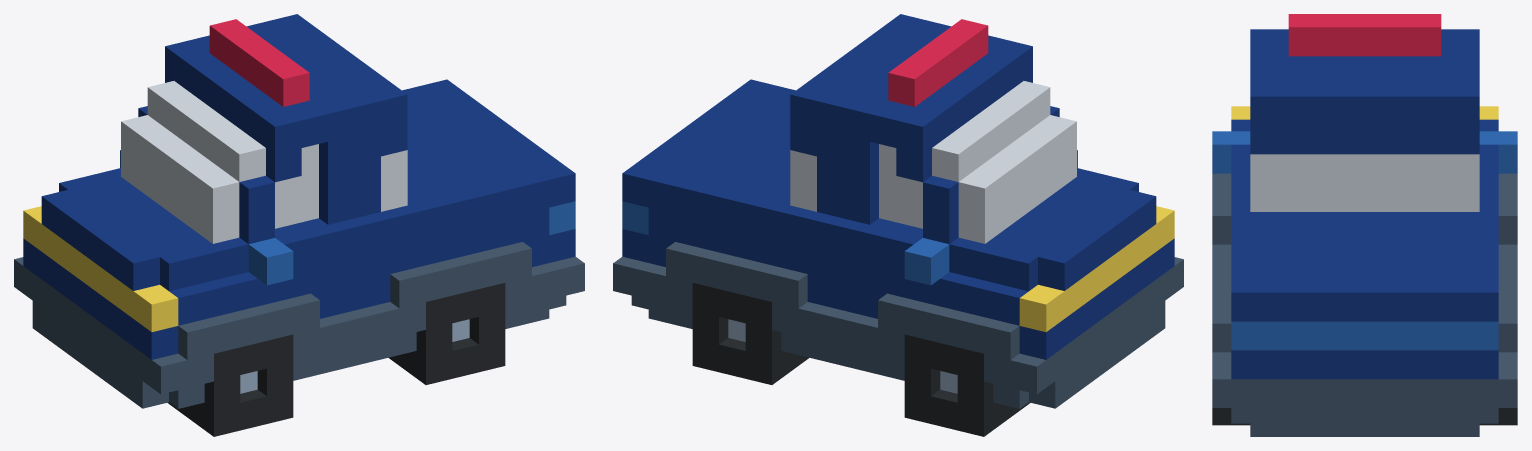
Rendered from Trucker.fbx.
3 views of the same model, side by side, from view 1: azimuth 30°, elevation 25°; view 2: azimuth 150°, elevation 25°; view 3: azimuth 270°, elevation 25° (orthographic). The views are drawn at different scales.
Visible parts, largest first — view 1: generated; view 2: generated; view 3: generated.
Boxes of the visible parts, left/top/right/bottom form: generated: left=14, top=14, right=584, bottom=436; generated: left=613, top=14, right=1183, bottom=436; generated: left=1212, top=14, right=1517, bottom=436.
Size of the model in its own units: 160 by 110 by 96.
